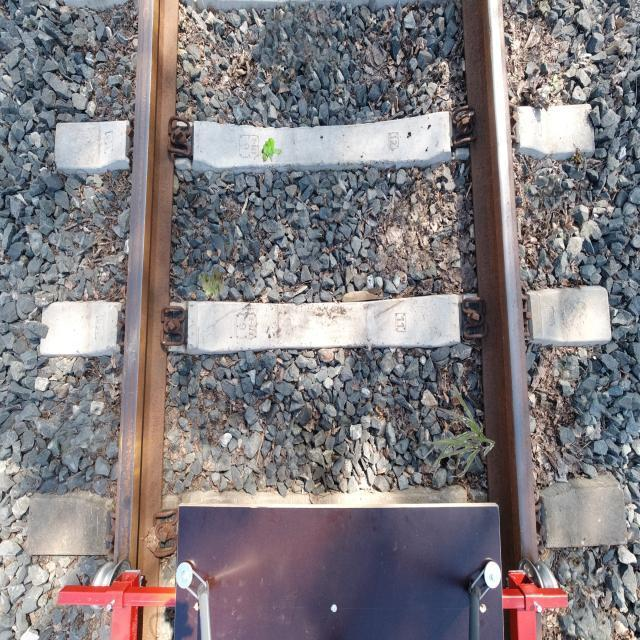Plant: (423, 384, 496, 478), (198, 267, 224, 299), (261, 138, 282, 163)
